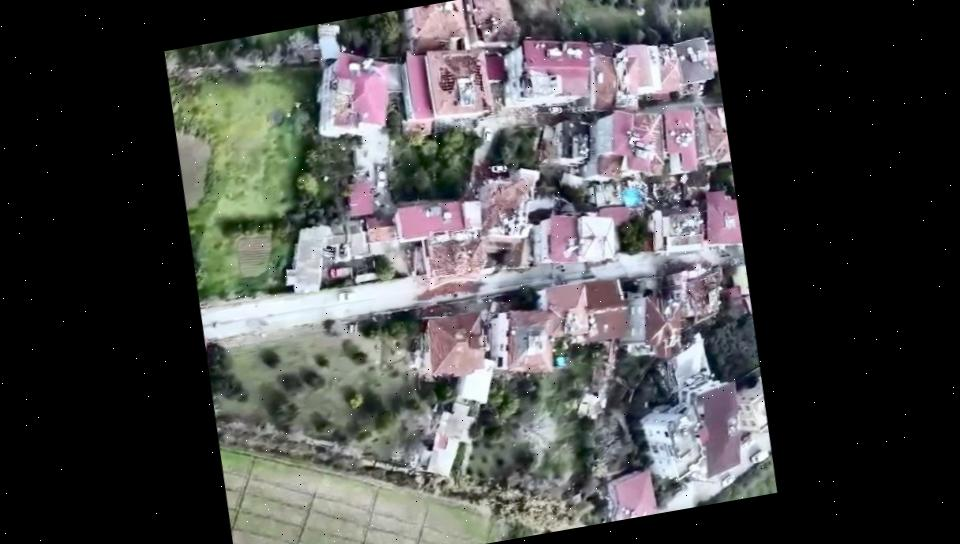kapali: (389, 266, 498, 309)
